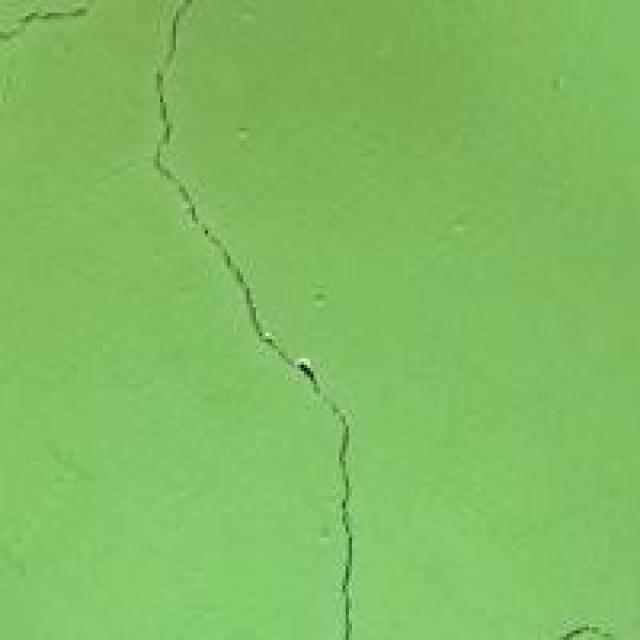crack: (128, 0, 432, 538)
